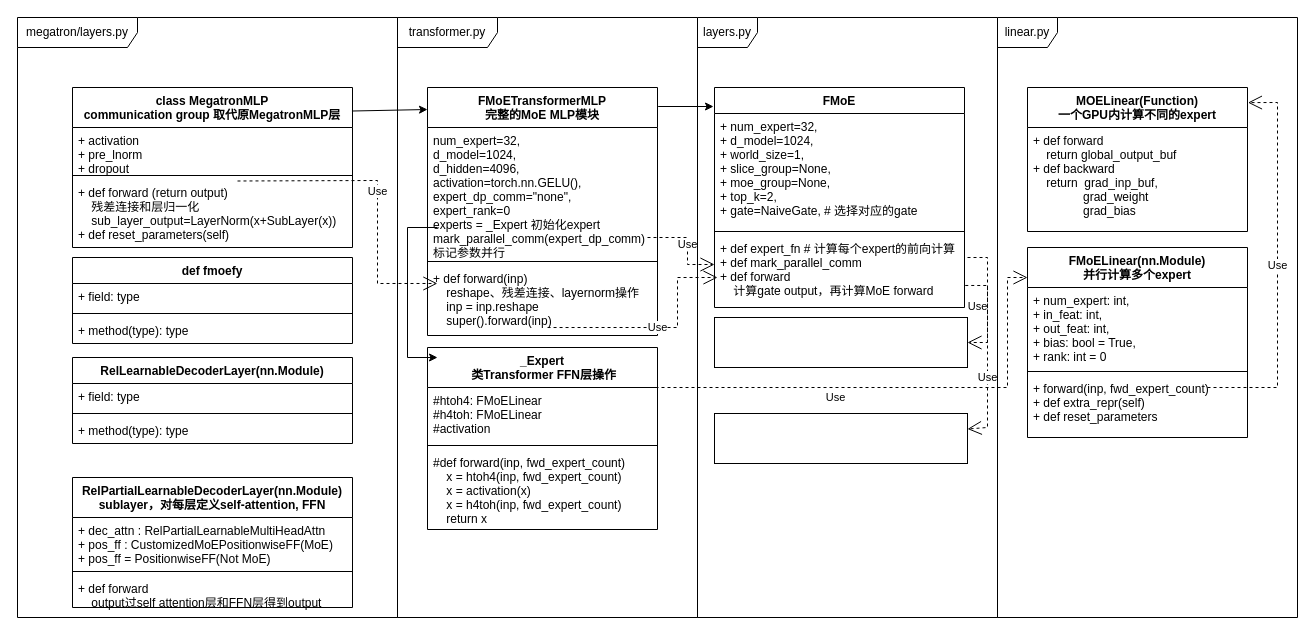
Image size: 1315x635. Some labels were removed from this diagram. Here are the shapes that lost their labels. From the top down, the centre of each, then its label:
point 841,342: def _fmoe_general_global_forward MoEScatter、MoEGather
point 841,438: def mark_module_parallel_comm 数据并行参数标记
